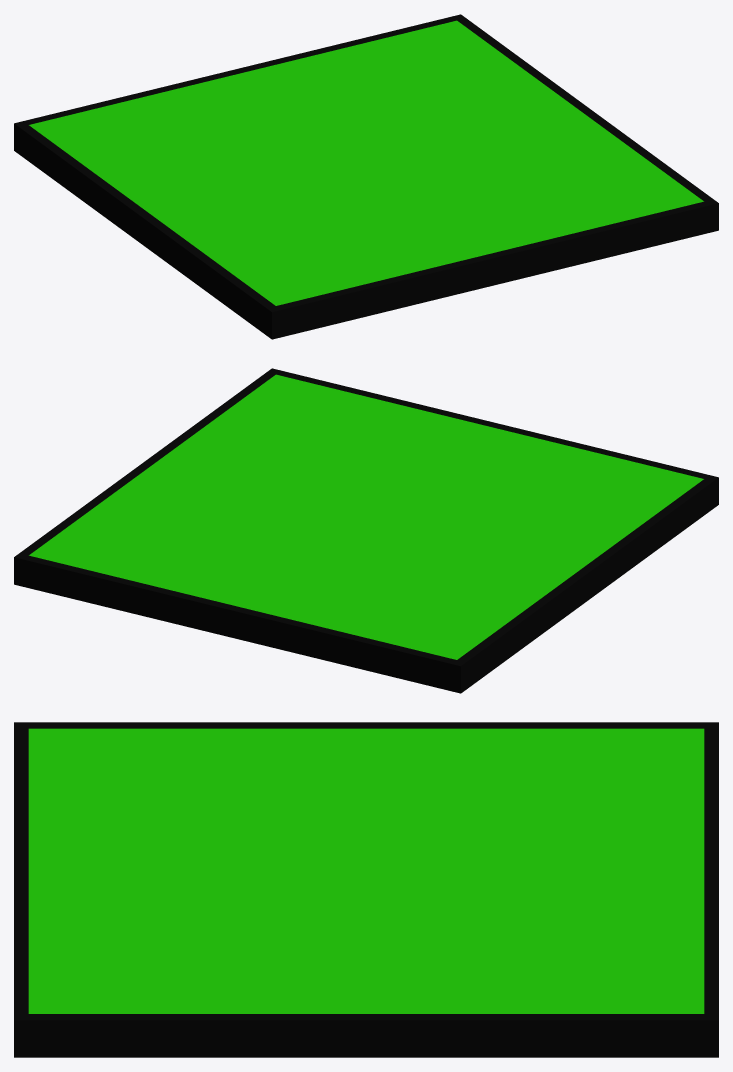
Rendered from grass.obj.
3 renders of one model, top to bottom at view 1: azimuth 30°, elevation 25°; view 2: azimuth 150°, elevation 25°; view 3: azimuth 270°, elevation 25°, orthographic. The views are drawn at different scales.
Visible parts, largest first — view 1: Cube; view 2: Cube; view 3: Cube.
Boxes of the visible parts, x1,y1,x2,y2 form: Cube: [14, 14, 718, 339]; Cube: [14, 368, 718, 693]; Cube: [14, 722, 718, 1057].
Bounding box in the file's own units: 2.09 × 0.1221 × 2.09.
